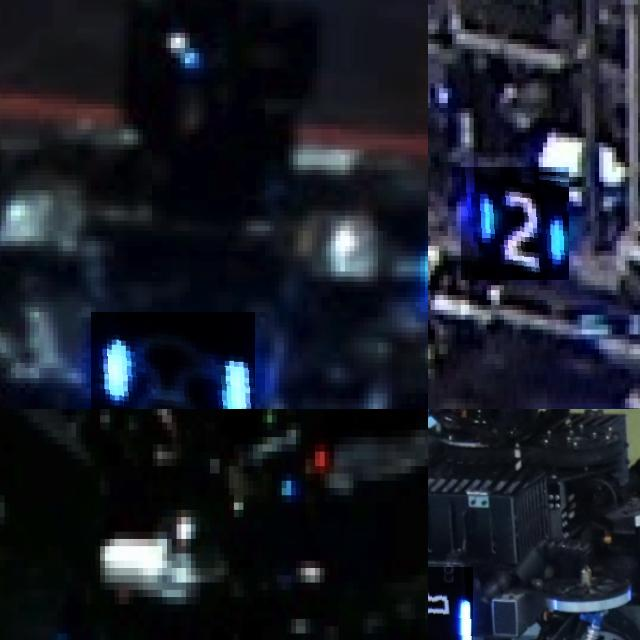B2: (461, 167, 569, 280)
Bs: (90, 312, 255, 409), (428, 567, 472, 640)
